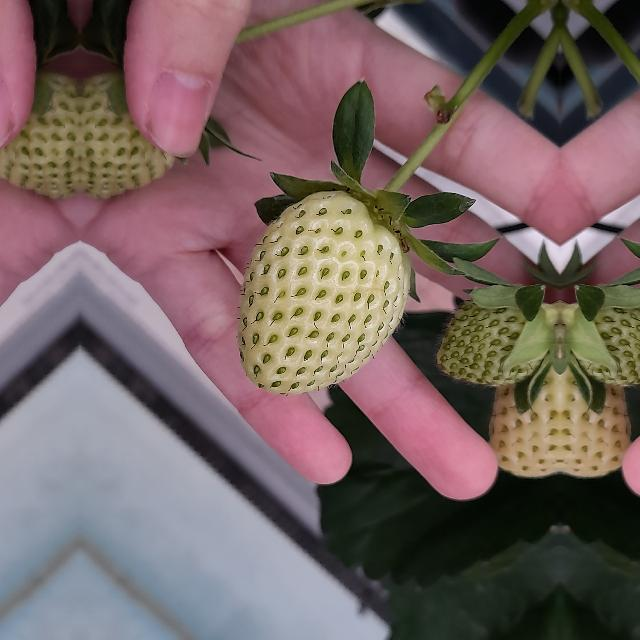Health_25: (237, 190, 411, 394), (82, 59, 172, 202), (0, 59, 77, 202), (442, 289, 552, 387), (568, 289, 640, 387)
